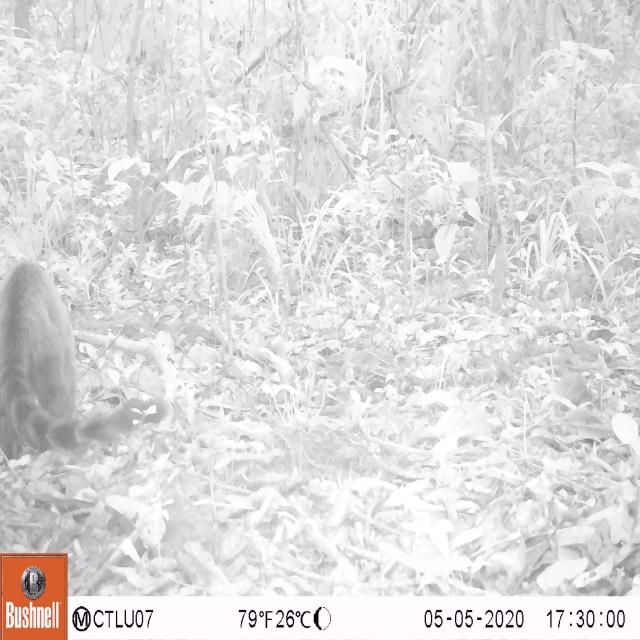South American Coati: (0, 242, 170, 479)
